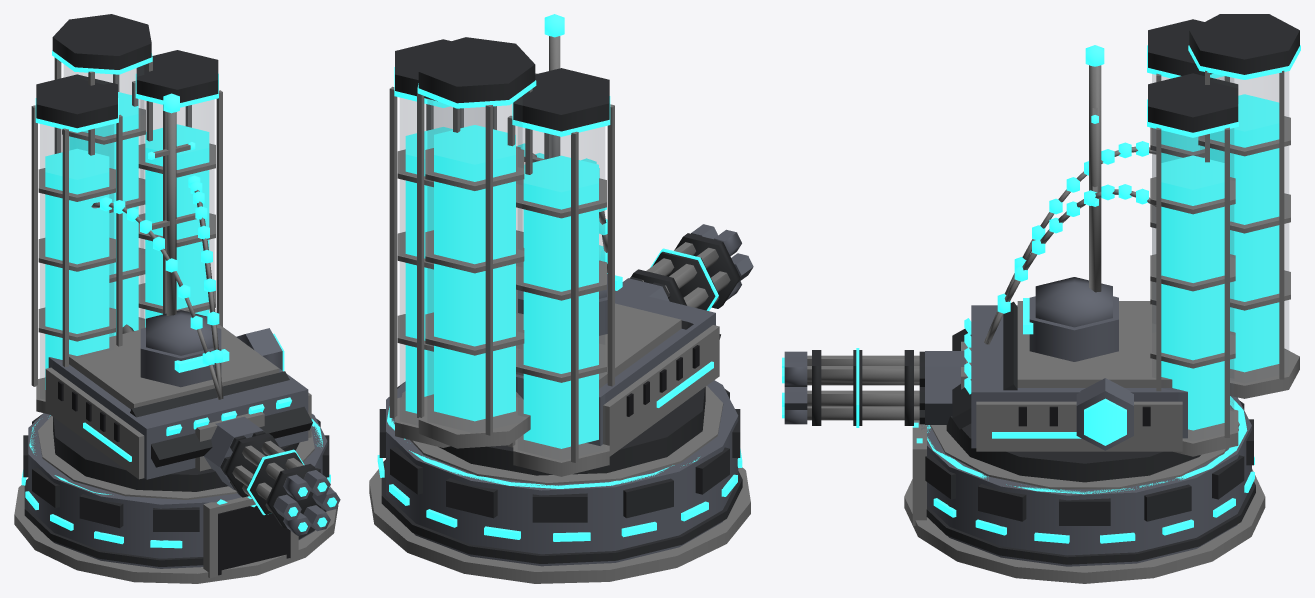
Rendered from Machinegoon_T3.glb.
3 renders of one model, left to right at view 1: azimuth 30°, elevation 25°; view 2: azimuth 150°, elevation 25°; view 3: azimuth 270°, elevation 25°, orthographic. The views are drawn at different scales.
Parts seen in each view (by area): view 1: Machinegoon_T3_Turret, Machinegoon_T3_Base; view 2: Machinegoon_T3_Turret, Machinegoon_T3_Base; view 3: Machinegoon_T3_Turret, Machinegoon_T3_Base.
Boxes of the visible parts, x1,y1,x2,y2 form: Machinegoon_T3_Turret: (31,14,340,535); Machinegoon_T3_Base: (14,413,338,583); Machinegoon_T3_Turret: (389,14,753,476); Machinegoon_T3_Base: (369,380,750,583); Machinegoon_T3_Turret: (782,14,1300,482); Machinegoon_T3_Base: (904,396,1265,583).
Bounding box in the file's own units: 3.5 × 5.05 × 5.03.
